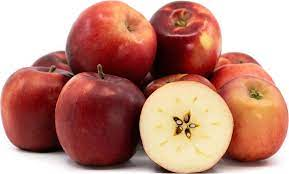apple: (139, 81, 234, 174)
